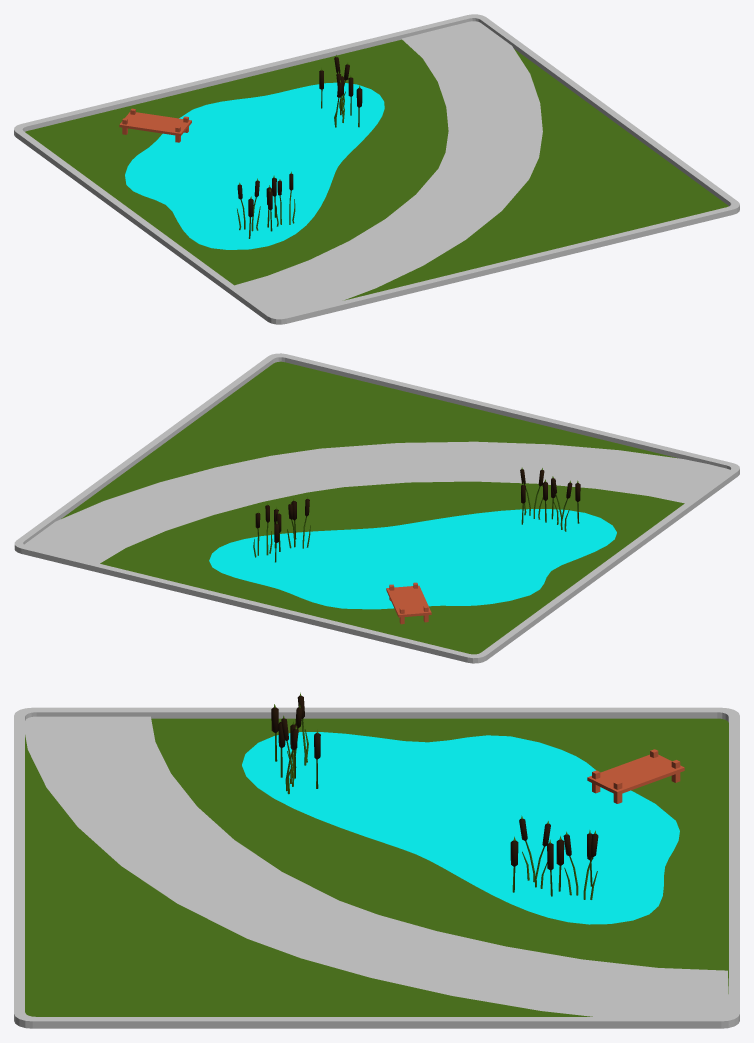
File: rake3.fbx
3 views of the same model, one above another, from view 1: azimuth 30°, elevation 25°; view 2: azimuth 150°, elevation 25°; view 3: azimuth 270°, elevation 25° (orthographic). The views are drawn at different scales.
Visible parts, largest first — view 1: Plane.049, BezierCurve.004, Cylinder.023; view 2: Plane.049, BezierCurve.004, Cylinder.023; view 3: Plane.049, BezierCurve.004, Cylinder.023.
Part boxes in pixels (box(x1,y1,x2,y2)): Plane.049: box(14, 14, 739, 324); BezierCurve.004: box(234, 21, 542, 315); Cylinder.023: box(119, 55, 362, 238); Plane.049: box(14, 353, 739, 663); BezierCurve.004: box(24, 441, 729, 563); Cylinder.023: box(253, 467, 580, 624); Plane.049: box(14, 707, 739, 1028); BezierCurve.004: box(25, 716, 728, 1016); Cylinder.023: box(271, 692, 684, 899).
Size of the model in its own units: 2927 by 2863 by 515.
